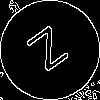Z: (25, 25, 77, 80)
